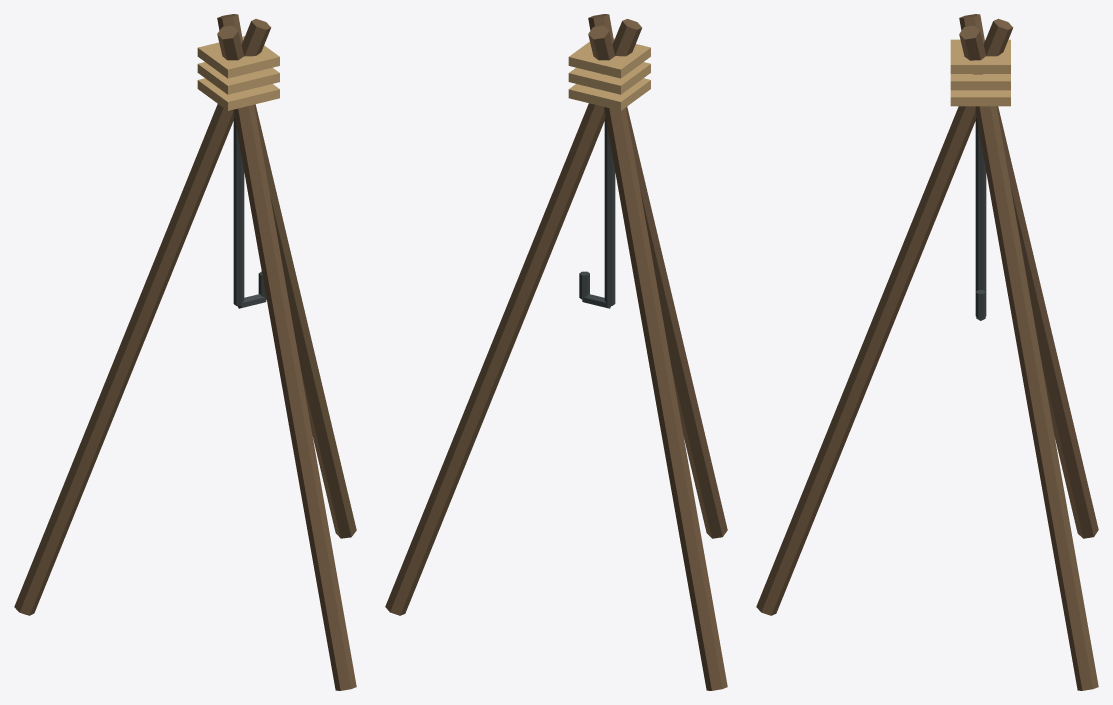
Rendered from TW_CAMP_COOKING_TRIPOD_A_LOD0.glb.
The picture shows the model from 3 angles, left to right: view 1: azimuth 30°, elevation 25°; view 2: azimuth 150°, elevation 25°; view 3: azimuth 270°, elevation 25°; orthographic projection.
Parts seen in each view (by area): view 1: TW_CAMP_COOKING_TRIPOD_A; view 2: TW_CAMP_COOKING_TRIPOD_A; view 3: TW_CAMP_COOKING_TRIPOD_A.
Part boxes in pixels (bbox=[...]): TW_CAMP_COOKING_TRIPOD_A: bbox=[14, 14, 356, 690]; TW_CAMP_COOKING_TRIPOD_A: bbox=[385, 14, 727, 690]; TW_CAMP_COOKING_TRIPOD_A: bbox=[756, 14, 1098, 690].
Bounding box in the file's own units: 0.8711 × 1.46 × 0.7661.
